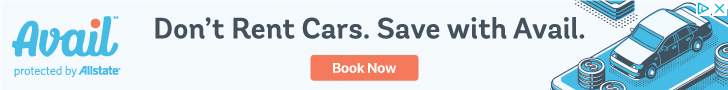fake_button: (304, 46, 429, 90)
